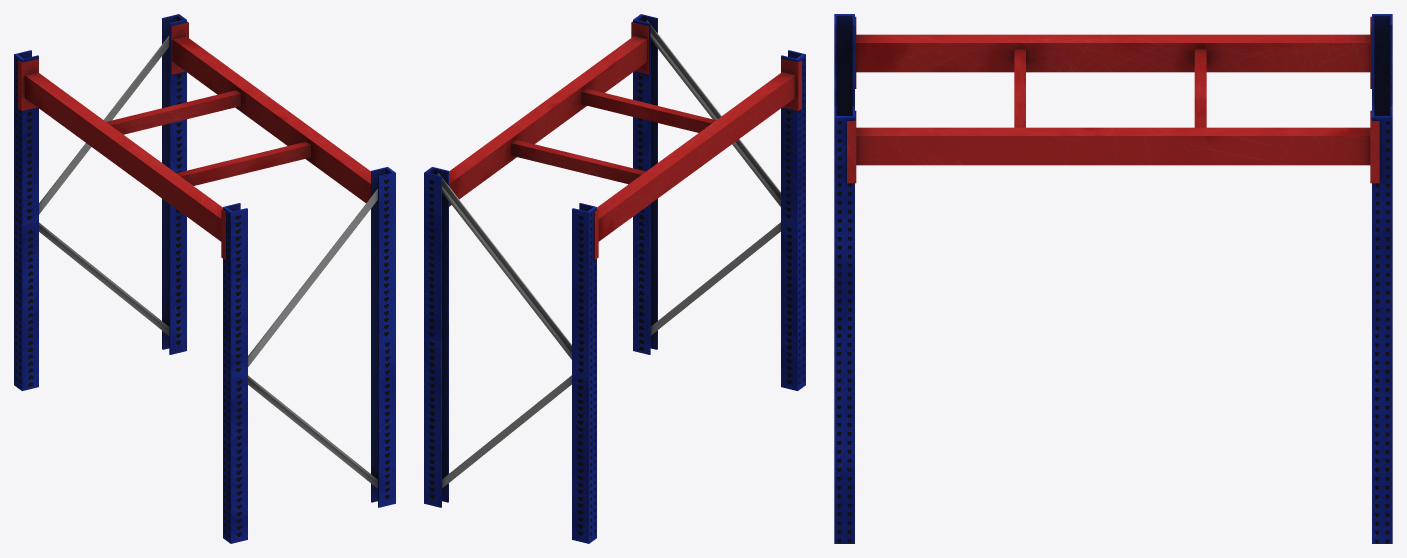
Rendered from frame.fbx.
3 views of the same model, side by side, from view 1: azimuth 30°, elevation 25°; view 2: azimuth 150°, elevation 25°; view 3: azimuth 270°, elevation 25° (orthographic). The views are drawn at different scales.
Visible parts, largest first — view 1: frame; view 2: frame; view 3: frame.
Part boxes in pixels (x1,y1,x2,y2): frame: (14, 14, 395, 543); frame: (424, 14, 805, 543); frame: (834, 14, 1392, 543).
Size of the model in its own units: 0.8173 by 1.55 by 1.84.
Materials: 1 (1 with a texture image).
